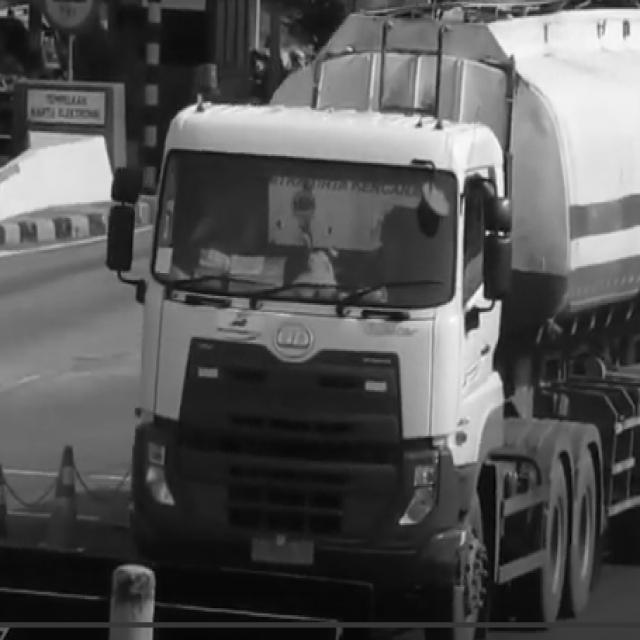Truck: (98, 39, 612, 614)
